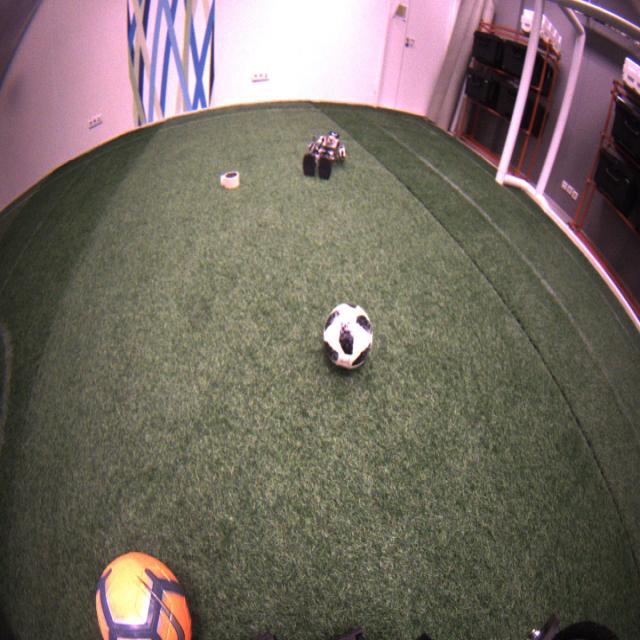ball: (94, 550, 193, 640), (322, 301, 373, 372)
goalpost: (494, 1, 556, 186)
